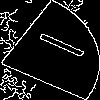I: (25, 25, 88, 60)
